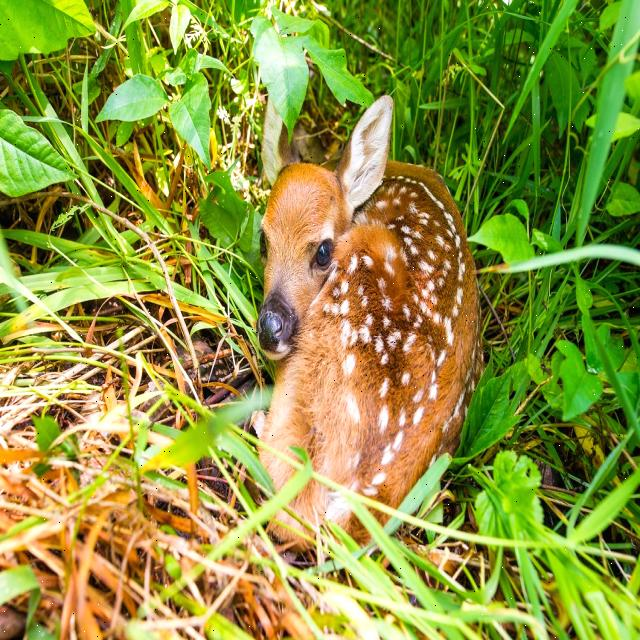deer: (228, 67, 475, 573)
